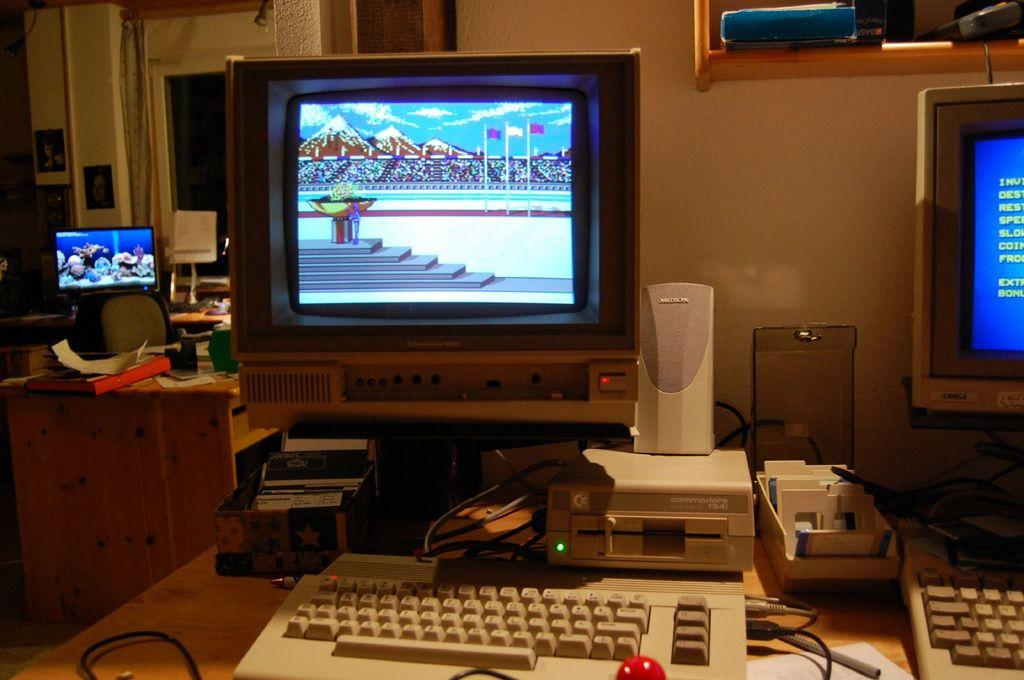Computer-keyboard: (229, 551, 748, 679), (901, 523, 1023, 679)
Computer-monitor: (225, 50, 640, 550), (908, 81, 1023, 439), (36, 205, 169, 348)
